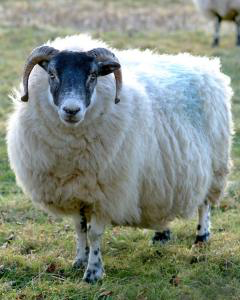koyun: (5, 33, 228, 284)
